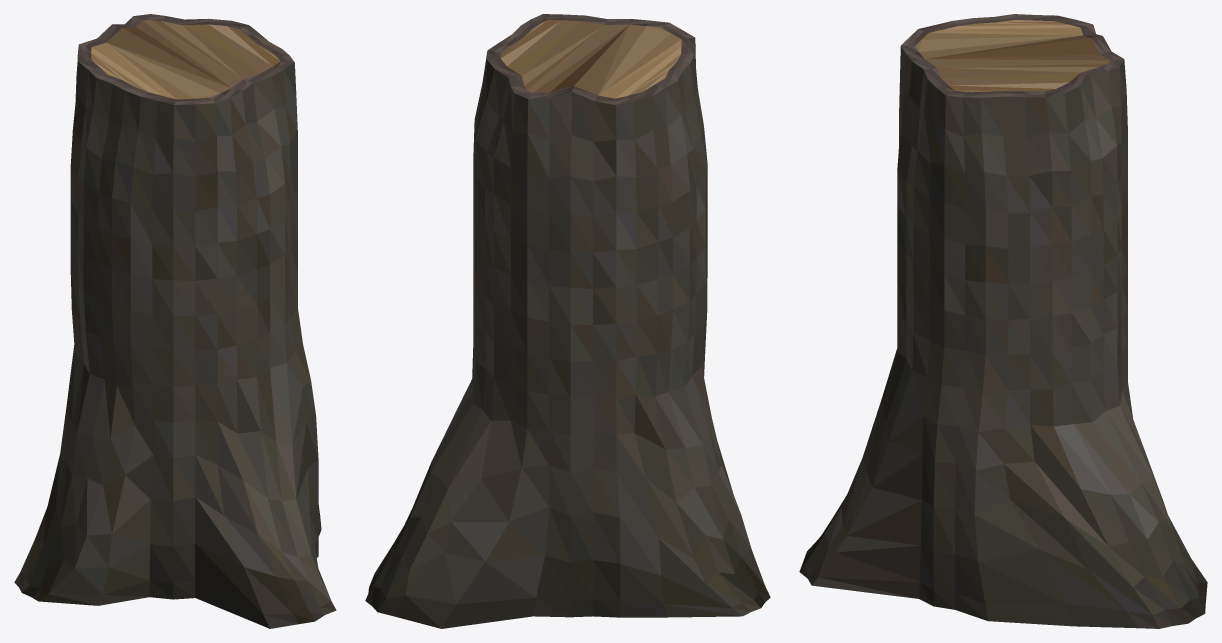
Rendered from r32_stumpf_0.glb.
3 renders of one model, left to right at view 1: azimuth 30°, elevation 25°; view 2: azimuth 150°, elevation 25°; view 3: azimuth 270°, elevation 25°, orthographic. The views are drawn at different scales.
Parts seen in each view (by area): view 1: stumpf; view 2: stumpf; view 3: stumpf.
Boxes of the visible parts, x1,y1,x2,y2 form: stumpf: (14,14,336,628); stumpf: (365,14,770,628); stumpf: (799,14,1207,628).
Size of the model in its own units: 0.6382 by 1 by 0.7264.
